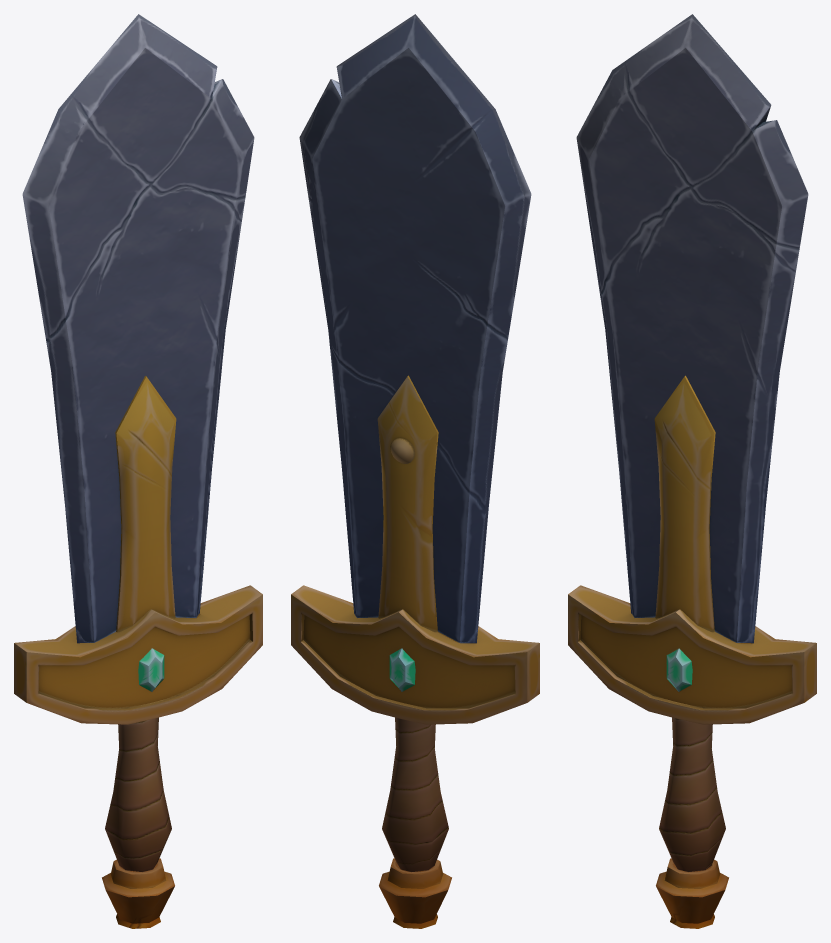
File: Stylized_Sword_Low_Poly.glb
3 views of the same model, side by side, from view 1: azimuth 30°, elevation 25°; view 2: azimuth 150°, elevation 25°; view 3: azimuth 330°, elevation 25° (orthographic).
Visible parts, largest first — view 1: Sword_Sword_Material_0; view 2: Sword_Sword_Material_0; view 3: Sword_Sword_Material_0.
Part boxes in pixels (x1,y1,x2,y2): Sword_Sword_Material_0: [14, 14, 262, 928]; Sword_Sword_Material_0: [291, 14, 539, 928]; Sword_Sword_Material_0: [568, 14, 816, 928].
Bounding box in the file's own units: 2.96 × 10.82 × 0.8245.
Materials: 1 (1 with a texture image).
